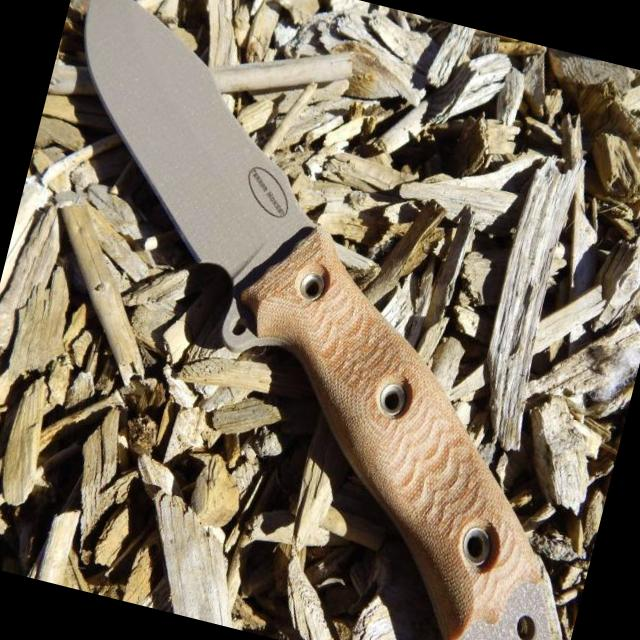Knife: (85, 0, 557, 640)
